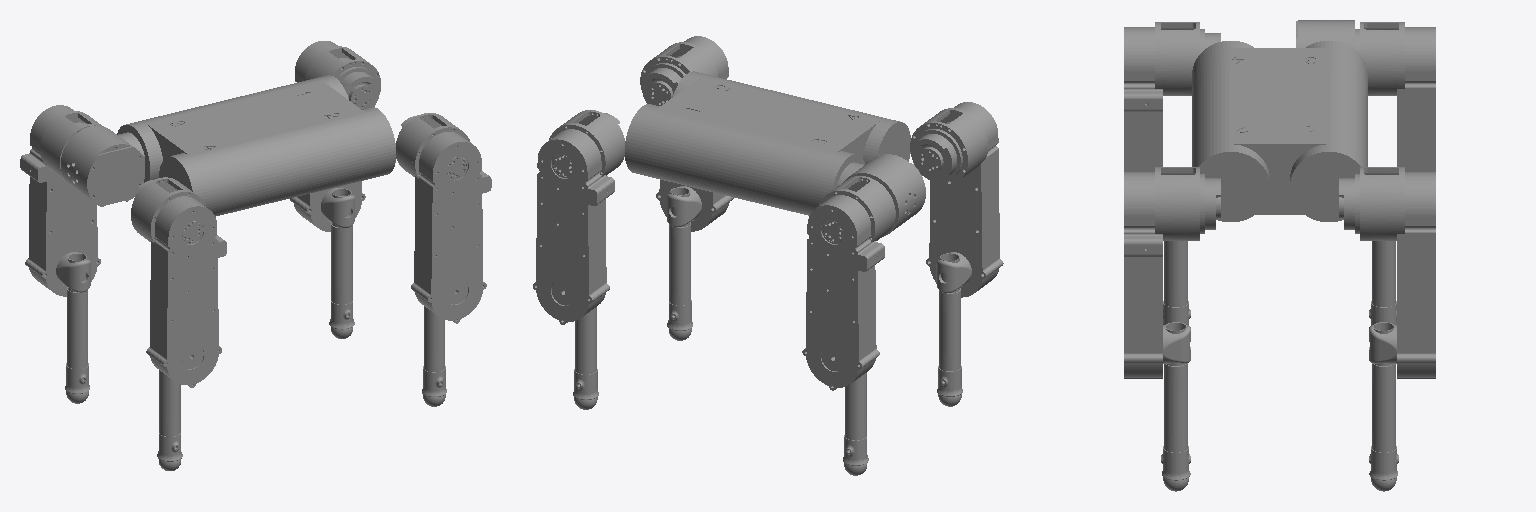
URDF robot description (mistletoe-v4):
<?xml version="1.0" ?>
<!-- =================================================================================== -->
<!-- |    This document was autogenerated by xacro from mistletoe-v4.xacro             | -->
<!-- |    EDITING THIS FILE BY HAND IS NOT RECOMMENDED                                 | -->
<!-- =================================================================================== -->
<robot name="mistletoe-v4">
  <material name="silver_default">
    <color rgba="0.700 0.700 0.700 1.000"/>
  </material>
  <material name="steel_satin">
    <color rgba="0.6274509803921569 0.6274509803921569 0.6274509803921569 1.0"/>
  </material>
  <transmission name="HFE_1_tran">
    <type>transmission_interface/SimpleTransmission</type>
    <joint name="HFE_1">
      <hardwareInterface>hardware_interface/EffortJointInterface</hardwareInterface>
    </joint>
    <actuator name="HFE_1_actr">
      <hardwareInterface>hardware_interface/EffortJointInterface</hardwareInterface>
      <mechanicalReduction>1</mechanicalReduction>
    </actuator>
  </transmission>
  <transmission name="HFE_2_tran">
    <type>transmission_interface/SimpleTransmission</type>
    <joint name="HFE_2">
      <hardwareInterface>hardware_interface/EffortJointInterface</hardwareInterface>
    </joint>
    <actuator name="HFE_2_actr">
      <hardwareInterface>hardware_interface/EffortJointInterface</hardwareInterface>
      <mechanicalReduction>1</mechanicalReduction>
    </actuator>
  </transmission>
  <transmission name="HFE_3_tran">
    <type>transmission_interface/SimpleTransmission</type>
    <joint name="HFE_3">
      <hardwareInterface>hardware_interface/EffortJointInterface</hardwareInterface>
    </joint>
    <actuator name="HFE_3_actr">
      <hardwareInterface>hardware_interface/EffortJointInterface</hardwareInterface>
      <mechanicalReduction>1</mechanicalReduction>
    </actuator>
  </transmission>
  <transmission name="HFE_4_tran">
    <type>transmission_interface/SimpleTransmission</type>
    <joint name="HFE_4">
      <hardwareInterface>hardware_interface/EffortJointInterface</hardwareInterface>
    </joint>
    <actuator name="HFE_4_actr">
      <hardwareInterface>hardware_interface/EffortJointInterface</hardwareInterface>
      <mechanicalReduction>1</mechanicalReduction>
    </actuator>
  </transmission>
  <transmission name="KFE_1_tran">
    <type>transmission_interface/SimpleTransmission</type>
    <joint name="KFE_1">
      <hardwareInterface>hardware_interface/EffortJointInterface</hardwareInterface>
    </joint>
    <actuator name="KFE_1_actr">
      <hardwareInterface>hardware_interface/EffortJointInterface</hardwareInterface>
      <mechanicalReduction>1</mechanicalReduction>
    </actuator>
  </transmission>
  <transmission name="KFE_2_tran">
    <type>transmission_interface/SimpleTransmission</type>
    <joint name="KFE_2">
      <hardwareInterface>hardware_interface/EffortJointInterface</hardwareInterface>
    </joint>
    <actuator name="KFE_2_actr">
      <hardwareInterface>hardware_interface/EffortJointInterface</hardwareInterface>
      <mechanicalReduction>1</mechanicalReduction>
    </actuator>
  </transmission>
  <transmission name="KFE_3_tran">
    <type>transmission_interface/SimpleTransmission</type>
    <joint name="KFE_3">
      <hardwareInterface>hardware_interface/EffortJointInterface</hardwareInterface>
    </joint>
    <actuator name="KFE_3_actr">
      <hardwareInterface>hardware_interface/EffortJointInterface</hardwareInterface>
      <mechanicalReduction>1</mechanicalReduction>
    </actuator>
  </transmission>
  <transmission name="KFE_4_tran">
    <type>transmission_interface/SimpleTransmission</type>
    <joint name="KFE_4">
      <hardwareInterface>hardware_interface/EffortJointInterface</hardwareInterface>
    </joint>
    <actuator name="KFE_4_actr">
      <hardwareInterface>hardware_interface/EffortJointInterface</hardwareInterface>
      <mechanicalReduction>1</mechanicalReduction>
    </actuator>
  </transmission>
  <transmission name="HAA_1_tran">
    <type>transmission_interface/SimpleTransmission</type>
    <joint name="HAA_1">
      <hardwareInterface>hardware_interface/EffortJointInterface</hardwareInterface>
    </joint>
    <actuator name="HAA_1_actr">
      <hardwareInterface>hardware_interface/EffortJointInterface</hardwareInterface>
      <mechanicalReduction>1</mechanicalReduction>
    </actuator>
  </transmission>
  <transmission name="HAA_2_tran">
    <type>transmission_interface/SimpleTransmission</type>
    <joint name="HAA_2">
      <hardwareInterface>hardware_interface/EffortJointInterface</hardwareInterface>
    </joint>
    <actuator name="HAA_2_actr">
      <hardwareInterface>hardware_interface/EffortJointInterface</hardwareInterface>
      <mechanicalReduction>1</mechanicalReduction>
    </actuator>
  </transmission>
  <transmission name="HAA_3_tran">
    <type>transmission_interface/SimpleTransmission</type>
    <joint name="HAA_3">
      <hardwareInterface>hardware_interface/EffortJointInterface</hardwareInterface>
    </joint>
    <actuator name="HAA_3_actr">
      <hardwareInterface>hardware_interface/EffortJointInterface</hardwareInterface>
      <mechanicalReduction>1</mechanicalReduction>
    </actuator>
  </transmission>
  <transmission name="HAA_4_tran">
    <type>transmission_interface/SimpleTransmission</type>
    <joint name="HAA_4">
      <hardwareInterface>hardware_interface/EffortJointInterface</hardwareInterface>
    </joint>
    <actuator name="HAA_4_actr">
      <hardwareInterface>hardware_interface/EffortJointInterface</hardwareInterface>
      <mechanicalReduction>1</mechanicalReduction>
    </actuator>
  </transmission>
  <link name="base_link">
    <inertial>
      <origin rpy="0 0 0" xyz="8.934564205453908e-07 7.883956382581658e-07 -0.04550328898512308"/>
      <mass value="5.5104049208044765"/>
      <inertia ixx="0.020175" ixy="-0.0" ixz="-0.0" iyy="0.044213" iyz="-0.0" izz="0.057638"/>
    </inertial>
    <visual>
      <origin rpy="0 0 0" xyz="0 0 0"/>
      <geometry>
        <mesh filename="package://mistletoe-v4_description/meshes/base_link.stl" scale="0.001 0.001 0.001"/>
      </geometry>
      <material name="steel_satin"/>
    </visual>
    <collision>
      <origin rpy="0 0 0" xyz="0 0 0"/>
      <geometry>
        <mesh filename="package://mistletoe-v4_description/meshes/base_link.stl" scale="0.001 0.001 0.001"/>
      </geometry>
    </collision>
  </link>
  <link name="THIGH_1">
    <inertial>
      <origin rpy="0 0 0" xyz="0.0010935636942111804 0.051036250405863404 -0.04784660292125947"/>
      <mass value="0.7240002196192582"/>
      <inertia ixx="0.004023" ixy="1.7e-05" ixz="-4e-05" iyy="0.003876" iyz="0.000584" izz="0.000791"/>
    </inertial>
    <visual>
      <origin rpy="0 0 0" xyz="-0.19975 -0.08775 0.0455"/>
      <geometry>
        <mesh filename="package://mistletoe-v4_description/meshes/THIGH_1.stl" scale="0.001 0.001 0.001"/>
      </geometry>
      <material name="steel_satin"/>
    </visual>
    <collision>
      <origin rpy="0 0 0" xyz="-0.19975 -0.08775 0.0455"/>
      <geometry>
        <mesh filename="package://mistletoe-v4_description/meshes/THIGH_1.stl" scale="0.001 0.001 0.001"/>
      </geometry>
    </collision>
  </link>
  <link name="THIGH_2">
    <inertial>
      <origin rpy="0 0 0" xyz="-0.001093563694208266 -0.05103625040585741 -0.04784660292126859"/>
      <mass value="0.7240002196192582"/>
      <inertia ixx="0.004023" ixy="1.7e-05" ixz="4e-05" iyy="0.003876" iyz="-0.000584" izz="0.000791"/>
    </inertial>
    <visual>
      <origin rpy="0 0 0" xyz="-0.19975 0.08775 0.0455"/>
      <geometry>
        <mesh filename="package://mistletoe-v4_description/meshes/THIGH_2.stl" scale="0.001 0.001 0.001"/>
      </geometry>
      <material name="steel_satin"/>
    </visual>
    <collision>
      <origin rpy="0 0 0" xyz="-0.19975 0.08775 0.0455"/>
      <geometry>
        <mesh filename="package://mistletoe-v4_description/meshes/THIGH_2.stl" scale="0.001 0.001 0.001"/>
      </geometry>
    </collision>
  </link>
  <link name="THIGH_3">
    <inertial>
      <origin rpy="0 0 0" xyz="0.0010935636941983018 0.05103625040585985 -0.04784660292125947"/>
      <mass value="0.7240002196192582"/>
      <inertia ixx="0.004023" ixy="1.7e-05" ixz="-4e-05" iyy="0.003876" iyz="0.000584" izz="0.000791"/>
    </inertial>
    <visual>
      <origin rpy="0 0 0" xyz="0.19975 -0.08775 0.0455"/>
      <geometry>
        <mesh filename="package://mistletoe-v4_description/meshes/THIGH_3.stl" scale="0.001 0.001 0.001"/>
      </geometry>
      <material name="steel_satin"/>
    </visual>
    <collision>
      <origin rpy="0 0 0" xyz="0.19975 -0.08775 0.0455"/>
      <geometry>
        <mesh filename="package://mistletoe-v4_description/meshes/THIGH_3.stl" scale="0.001 0.001 0.001"/>
      </geometry>
    </collision>
  </link>
  <link name="THIGH_4">
    <inertial>
      <origin rpy="0 0 0" xyz="-0.0010935636942024096 -0.05103625040586318 -0.047846602921261486"/>
      <mass value="0.7240002196192582"/>
      <inertia ixx="0.004023" ixy="1.7e-05" ixz="4e-05" iyy="0.003876" iyz="-0.000584" izz="0.000791"/>
    </inertial>
    <visual>
      <origin rpy="0 0 0" xyz="0.19975 0.08775 0.0455"/>
      <geometry>
        <mesh filename="package://mistletoe-v4_description/meshes/THIGH_4.stl" scale="0.001 0.001 0.001"/>
      </geometry>
      <material name="steel_satin"/>
    </visual>
    <collision>
      <origin rpy="0 0 0" xyz="0.19975 0.08775 0.0455"/>
      <geometry>
        <mesh filename="package://mistletoe-v4_description/meshes/THIGH_4.stl" scale="0.001 0.001 0.001"/>
      </geometry>
    </collision>
  </link>
  <link name="SHANK_1">
    <inertial>
      <origin rpy="0 0 0" xyz="8.778158588906848e-09 -0.04792404704971809 -0.05711326657615318"/>
      <mass value="0.08133302860327428"/>
      <inertia ixx="0.000324" ixy="0.0" ixz="0.0" iyy="0.000305" iyz="-4.7e-05" izz="3.6e-05"/>
    </inertial>
    <visual>
      <origin rpy="0 0 0" xyz="-0.19975 -0.17891 0.2254"/>
      <geometry>
        <mesh filename="package://mistletoe-v4_description/meshes/SHANK_1.stl" scale="0.001 0.001 0.001"/>
      </geometry>
      <material name="steel_satin"/>
    </visual>
    <collision>
      <origin rpy="0 0 0" xyz="-0.19975 -0.17891 0.2254"/>
      <geometry>
        <mesh filename="package://mistletoe-v4_description/meshes/SHANK_1.stl" scale="0.001 0.001 0.001"/>
      </geometry>
    </collision>
  </link>
  <link name="SHANK_2">
    <inertial>
      <origin rpy="0 0 0" xyz="-8.778152343902335e-09 0.04792404704972353 -0.05711326657615601"/>
      <mass value="0.08133302860327428"/>
      <inertia ixx="0.000324" ixy="0.0" ixz="-0.0" iyy="0.000305" iyz="4.7e-05" izz="3.6e-05"/>
    </inertial>
    <visual>
      <origin rpy="0 0 0" xyz="-0.19975 0.17891 0.2254"/>
      <geometry>
        <mesh filename="package://mistletoe-v4_description/meshes/SHANK_2.stl" scale="0.001 0.001 0.001"/>
      </geometry>
      <material name="steel_satin"/>
    </visual>
    <collision>
      <origin rpy="0 0 0" xyz="-0.19975 0.17891 0.2254"/>
      <geometry>
        <mesh filename="package://mistletoe-v4_description/meshes/SHANK_2.stl" scale="0.001 0.001 0.001"/>
      </geometry>
    </collision>
  </link>
  <link name="SHANK_3">
    <inertial>
      <origin rpy="0 0 0" xyz="8.778171217693753e-09 -0.04792404704972264 -0.057113266576134136"/>
      <mass value="0.08133302860327428"/>
      <inertia ixx="0.000324" ixy="0.0" ixz="0.0" iyy="0.000305" iyz="-4.7e-05" izz="3.6e-05"/>
    </inertial>
    <visual>
      <origin rpy="0 0 0" xyz="0.19975 -0.17891 0.2254"/>
      <geometry>
        <mesh filename="package://mistletoe-v4_description/meshes/SHANK_3.stl" scale="0.001 0.001 0.001"/>
      </geometry>
      <material name="steel_satin"/>
    </visual>
    <collision>
      <origin rpy="0 0 0" xyz="0.19975 -0.17891 0.2254"/>
      <geometry>
        <mesh filename="package://mistletoe-v4_description/meshes/SHANK_3.stl" scale="0.001 0.001 0.001"/>
      </geometry>
    </collision>
  </link>
  <link name="SHANK_4">
    <inertial>
      <origin rpy="0 0 0" xyz="-8.778185067725985e-09 0.04792404704972175 -0.05711326657613752"/>
      <mass value="0.08133302860327428"/>
      <inertia ixx="0.000324" ixy="0.0" ixz="-0.0" iyy="0.000305" iyz="4.7e-05" izz="3.6e-05"/>
    </inertial>
    <visual>
      <origin rpy="0 0 0" xyz="0.19975 0.17891 0.2254"/>
      <geometry>
        <mesh filename="package://mistletoe-v4_description/meshes/SHANK_4.stl" scale="0.001 0.001 0.001"/>
      </geometry>
      <material name="steel_satin"/>
    </visual>
    <collision>
      <origin rpy="0 0 0" xyz="0.19975 0.17891 0.2254"/>
      <geometry>
        <mesh filename="package://mistletoe-v4_description/meshes/SHANK_4.stl" scale="0.001 0.001 0.001"/>
      </geometry>
    </collision>
  </link>
  <link name="HIP_1">
    <inertial>
      <origin rpy="0 0 0" xyz="0.04348674344436504 0.0003320078953301872 -3.069574053486679e-06"/>
      <mass value="0.5061938145713982"/>
      <inertia ixx="0.000367" ixy="-0.0" ixz="-2e-06" iyy="0.000507" iyz="-1e-06" izz="0.00044"/>
    </inertial>
    <visual>
      <origin rpy="0 0 0" xyz="-0.153 -0.057 0.0455"/>
      <geometry>
        <mesh filename="package://mistletoe-v4_description/meshes/HIP_1.stl" scale="0.001 0.001 0.001"/>
      </geometry>
      <material name="steel_satin"/>
    </visual>
    <collision>
      <origin rpy="0 0 0" xyz="-0.153 -0.057 0.0455"/>
      <geometry>
        <mesh filename="package://mistletoe-v4_description/meshes/HIP_1.stl" scale="0.001 0.001 0.001"/>
      </geometry>
    </collision>
  </link>
  <link name="HIP_2">
    <inertial>
      <origin rpy="0 0 0" xyz="0.04348674344436615 -0.0003320078953261904 3.069574053611579e-06"/>
      <mass value="0.5061938145713982"/>
      <inertia ixx="0.000367" ixy="0.0" ixz="2e-06" iyy="0.000507" iyz="-1e-06" izz="0.00044"/>
    </inertial>
    <visual>
      <origin rpy="0 0 0" xyz="-0.153 0.057 0.0455"/>
      <geometry>
        <mesh filename="package://mistletoe-v4_description/meshes/HIP_2.stl" scale="0.001 0.001 0.001"/>
      </geometry>
      <material name="steel_satin"/>
    </visual>
    <collision>
      <origin rpy="0 0 0" xyz="-0.153 0.057 0.0455"/>
      <geometry>
        <mesh filename="package://mistletoe-v4_description/meshes/HIP_2.stl" scale="0.001 0.001 0.001"/>
      </geometry>
    </collision>
  </link>
  <link name="HIP_3">
    <inertial>
      <origin rpy="0 0 0" xyz="-0.04348674344436626 0.00033200789532639163 3.0695740536393346e-06"/>
      <mass value="0.5061938145713982"/>
      <inertia ixx="0.000367" ixy="0.0" ixz="-2e-06" iyy="0.000507" iyz="1e-06" izz="0.00044"/>
    </inertial>
    <visual>
      <origin rpy="0 0 0" xyz="0.153 -0.057 0.0455"/>
      <geometry>
        <mesh filename="package://mistletoe-v4_description/meshes/HIP_3.stl" scale="0.001 0.001 0.001"/>
      </geometry>
      <material name="steel_satin"/>
    </visual>
    <collision>
      <origin rpy="0 0 0" xyz="0.153 -0.057 0.0455"/>
      <geometry>
        <mesh filename="package://mistletoe-v4_description/meshes/HIP_3.stl" scale="0.001 0.001 0.001"/>
      </geometry>
    </collision>
  </link>
  <link name="HIP_4">
    <inertial>
      <origin rpy="0 0 0" xyz="-0.04348674344436532 -0.00033200789533001374 -3.0695740535699456e-06"/>
      <mass value="0.5061938145713982"/>
      <inertia ixx="0.000367" ixy="-0.0" ixz="2e-06" iyy="0.000507" iyz="1e-06" izz="0.00044"/>
    </inertial>
    <visual>
      <origin rpy="0 0 0" xyz="0.153 0.057 0.0455"/>
      <geometry>
        <mesh filename="package://mistletoe-v4_description/meshes/HIP_4.stl" scale="0.001 0.001 0.001"/>
      </geometry>
      <material name="steel_satin"/>
    </visual>
    <collision>
      <origin rpy="0 0 0" xyz="0.153 0.057 0.0455"/>
      <geometry>
        <mesh filename="package://mistletoe-v4_description/meshes/HIP_4.stl" scale="0.001 0.001 0.001"/>
      </geometry>
    </collision>
  </link>
  <link name="FOOT_1">
    <inertial>
      <origin rpy="0 0 0" xyz="-1.0547118733938987e-15 3.982925100842749e-15 -3.751899180226559e-07"/>
      <mass value="0.014674379284917924"/>
      <inertia ixx="1e-06" ixy="0.0" ixz="0.0" iyy="1e-06" iyz="0.0" izz="1e-06"/>
    </inertial>
    <visual>
      <origin rpy="0 0 0" xyz="-0.19975 -0.12091 0.397904"/>
      <geometry>
        <mesh filename="package://mistletoe-v4_description/meshes/FOOT_1.stl" scale="0.001 0.001 0.001"/>
      </geometry>
      <material name="steel_satin"/>
    </visual>
    <collision>
      <origin rpy="0 0 0" xyz="-0.19975 -0.12091 0.397904"/>
      <geometry>
        <mesh filename="package://mistletoe-v4_description/meshes/FOOT_1.stl" scale="0.001 0.001 0.001"/>
      </geometry>
    </collision>
  </link>
  <link name="FOOT_2">
    <inertial>
      <origin rpy="0 0 0" xyz="7.244205235679146e-15 -2.886579864025407e-15 -3.7518991713447747e-07"/>
      <mass value="0.014674379284917924"/>
      <inertia ixx="1e-06" ixy="0.0" ixz="0.0" iyy="1e-06" iyz="0.0" izz="1e-06"/>
    </inertial>
    <visual>
      <origin rpy="0 0 0" xyz="-0.19975 0.12091 0.397904"/>
      <geometry>
        <mesh filename="package://mistletoe-v4_description/meshes/FOOT_2.stl" scale="0.001 0.001 0.001"/>
      </geometry>
      <material name="steel_satin"/>
    </visual>
    <collision>
      <origin rpy="0 0 0" xyz="-0.19975 0.12091 0.397904"/>
      <geometry>
        <mesh filename="package://mistletoe-v4_description/meshes/FOOT_2.stl" scale="0.001 0.001 0.001"/>
      </geometry>
    </collision>
  </link>
  <link name="FOOT_3">
    <inertial>
      <origin rpy="0 0 0" xyz="1.9290125052862095e-14 -2.2620794126737565e-15 -3.7518988832419e-07"/>
      <mass value="0.014674379284917924"/>
      <inertia ixx="1e-06" ixy="-0.0" ixz="0.0" iyy="1e-06" iyz="-0.0" izz="1e-06"/>
    </inertial>
    <visual>
      <origin rpy="0 0 0" xyz="0.19975 -0.12091 0.397904"/>
      <geometry>
        <mesh filename="package://mistletoe-v4_description/meshes/FOOT_3.stl" scale="0.001 0.001 0.001"/>
      </geometry>
      <material name="steel_satin"/>
    </visual>
    <collision>
      <origin rpy="0 0 0" xyz="0.19975 -0.12091 0.397904"/>
      <geometry>
        <mesh filename="package://mistletoe-v4_description/meshes/FOOT_3.stl" scale="0.001 0.001 0.001"/>
      </geometry>
    </collision>
  </link>
  <link name="FOOT_4">
    <inertial>
      <origin rpy="0 0 0" xyz="-3.497202527569243e-14 2.55351295663786e-15 -3.7518989165485905e-07"/>
      <mass value="0.014674379284917924"/>
      <inertia ixx="1e-06" ixy="0.0" ixz="0.0" iyy="1e-06" iyz="-0.0" izz="1e-06"/>
    </inertial>
    <visual>
      <origin rpy="0 0 0" xyz="0.19975 0.12091 0.397904"/>
      <geometry>
        <mesh filename="package://mistletoe-v4_description/meshes/FOOT_4.stl" scale="0.001 0.001 0.001"/>
      </geometry>
      <material name="steel_satin"/>
    </visual>
    <collision>
      <origin rpy="0 0 0" xyz="0.19975 0.12091 0.397904"/>
      <geometry>
        <mesh filename="package://mistletoe-v4_description/meshes/FOOT_4.stl" scale="0.001 0.001 0.001"/>
      </geometry>
    </collision>
  </link>
  <joint name="HFE_1" type="continuous">
    <origin rpy="0 0 0" xyz="0.04675 0.03075 0.0"/>
    <parent link="HIP_1"/>
    <child link="THIGH_1"/>
    <axis xyz="-0.0 1.0 -0.0"/>
  </joint>
  <joint name="HFE_2" type="continuous">
    <origin rpy="0 0 0" xyz="0.04675 -0.03075 0.0"/>
    <parent link="HIP_2"/>
    <child link="THIGH_2"/>
    <axis xyz="0.0 -1.0 0.0"/>
  </joint>
  <joint name="HFE_3" type="continuous">
    <origin rpy="0 0 0" xyz="-0.04675 0.03075 0.0"/>
    <parent link="HIP_3"/>
    <child link="THIGH_3"/>
    <axis xyz="-0.0 1.0 0.0"/>
  </joint>
  <joint name="HFE_4" type="continuous">
    <origin rpy="0 0 0" xyz="-0.04675 -0.03075 0.0"/>
    <parent link="HIP_4"/>
    <child link="THIGH_4"/>
    <axis xyz="0.0 -1.0 0.0"/>
  </joint>
  <joint name="KFE_1" type="continuous">
    <origin rpy="0 0 0" xyz="0.0 0.09116 -0.1799"/>
    <parent link="THIGH_1"/>
    <child link="SHANK_1"/>
    <axis xyz="0.0 -1.0 -0.0"/>
  </joint>
  <joint name="KFE_2" type="continuous">
    <origin rpy="0 0 0" xyz="0.0 -0.09116 -0.1799"/>
    <parent link="THIGH_2"/>
    <child link="SHANK_2"/>
    <axis xyz="-0.0 1.0 0.0"/>
  </joint>
  <joint name="KFE_3" type="continuous">
    <origin rpy="0 0 0" xyz="0.0 0.09116 -0.1799"/>
    <parent link="THIGH_3"/>
    <child link="SHANK_3"/>
    <axis xyz="0.0 -1.0 -0.0"/>
  </joint>
  <joint name="KFE_4" type="continuous">
    <origin rpy="0 0 0" xyz="0.0 -0.09116 -0.1799"/>
    <parent link="THIGH_4"/>
    <child link="SHANK_4"/>
    <axis xyz="-0.0 1.0 0.0"/>
  </joint>
  <joint name="HAA_1" type="continuous">
    <origin rpy="0 0 0" xyz="0.153 0.057 -0.0455"/>
    <parent link="base_link"/>
    <child link="HIP_1"/>
    <axis xyz="1.0 0.0 -0.0"/>
  </joint>
  <joint name="HAA_2" type="continuous">
    <origin rpy="0 0 0" xyz="0.153 -0.057 -0.0455"/>
    <parent link="base_link"/>
    <child link="HIP_2"/>
    <axis xyz="1.0 0.0 -0.0"/>
  </joint>
  <joint name="HAA_3" type="continuous">
    <origin rpy="0 0 0" xyz="-0.153 0.057 -0.0455"/>
    <parent link="base_link"/>
    <child link="HIP_3"/>
    <axis xyz="-1.0 -0.0 0.0"/>
  </joint>
  <joint name="HAA_4" type="continuous">
    <origin rpy="0 0 0" xyz="-0.153 -0.057 -0.0455"/>
    <parent link="base_link"/>
    <child link="HIP_4"/>
    <axis xyz="-1.0 -0.0 0.0"/>
  </joint>
  <joint name="Rigid 34" type="fixed">
    <origin rpy="0 0 0" xyz="0.0 -0.058 -0.172504"/>
    <parent link="SHANK_1"/>
    <child link="FOOT_1"/>
  </joint>
  <joint name="Rigid 35" type="fixed">
    <origin rpy="0 0 0" xyz="0.0 0.058 -0.172504"/>
    <parent link="SHANK_2"/>
    <child link="FOOT_2"/>
  </joint>
  <joint name="Rigid 36" type="fixed">
    <origin rpy="0 0 0" xyz="0.0 -0.058 -0.172504"/>
    <parent link="SHANK_3"/>
    <child link="FOOT_3"/>
  </joint>
  <joint name="Rigid 37" type="fixed">
    <origin rpy="0 0 0" xyz="0.0 0.058 -0.172504"/>
    <parent link="SHANK_4"/>
    <child link="FOOT_4"/>
  </joint>
</robot>

--- Render facts (derived) ---
The picture shows the robot from 3 angles, left to right: view 1: azimuth 30°, elevation 25°; view 2: azimuth 150°, elevation 25°; view 3: azimuth 270°, elevation 25°; orthographic projection.
Model mistletoe-v4 with 17 links and 16 joints (12 continuous, 4 fixed), rooted at base_link, posed all joints at 0.
Visible links, largest first — view 1: base_link, THIGH_2, THIGH_4, THIGH_3, HIP_3, THIGH_1, SHANK_1, SHANK_3, SHANK_4, SHANK_2; view 2: base_link, THIGH_1, THIGH_3, THIGH_4, THIGH_2, SHANK_4, SHANK_2, HIP_3, SHANK_1, SHANK_3; view 3: base_link, THIGH_1, THIGH_2, THIGH_4, THIGH_3, SHANK_1, SHANK_2, SHANK_3, SHANK_4, HIP_3.
Boxes of the visible links, left/top/right/bottom form: base_link: left=117, top=75, right=395, bottom=216; THIGH_2: left=396, top=113, right=491, bottom=323; THIGH_4: left=131, top=177, right=226, bottom=387; THIGH_3: left=20, top=105, right=103, bottom=296; HIP_3: left=61, top=126, right=144, bottom=206; THIGH_1: left=290, top=41, right=380, bottom=231; SHANK_1: left=321, top=188, right=354, bottom=329; SHANK_3: left=56, top=252, right=90, bottom=393; SHANK_4: left=157, top=346, right=201, bottom=461; SHANK_2: left=422, top=282, right=466, bottom=396; base_link: left=625, top=71, right=910, bottom=215; THIGH_1: left=533, top=110, right=624, bottom=324; THIGH_3: left=802, top=176, right=895, bottom=390; THIGH_4: left=910, top=102, right=1003, bottom=297; THIGH_2: left=640, top=36, right=733, bottom=231; SHANK_4: left=936, top=252, right=971, bottom=396; SHANK_2: left=667, top=186, right=701, bottom=330; HIP_3: left=837, top=154, right=925, bottom=236; SHANK_1: left=553, top=282, right=598, bottom=399; SHANK_3: left=823, top=348, right=868, bottom=465; base_link: left=1192, top=41, right=1367, bottom=221; THIGH_1: left=1339, top=167, right=1435, bottom=378; THIGH_2: left=1124, top=167, right=1220, bottom=378; THIGH_4: left=1124, top=22, right=1220, bottom=171; THIGH_3: left=1355, top=22, right=1435, bottom=171; SHANK_1: left=1369, top=322, right=1398, bottom=480; SHANK_2: left=1161, top=322, right=1190, bottom=480; SHANK_3: left=1369, top=241, right=1396, bottom=325; SHANK_4: left=1163, top=241, right=1190, bottom=325; HIP_3: left=1296, top=20, right=1354, bottom=48.
Size in the robot's own frame: 0.5026 by 0.3618 by 0.4129 metres.
14 mesh visuals loaded from 17 distinct referenced files (14 binary STL); not drawn: 3 (reference not matched to a file when rendering).
